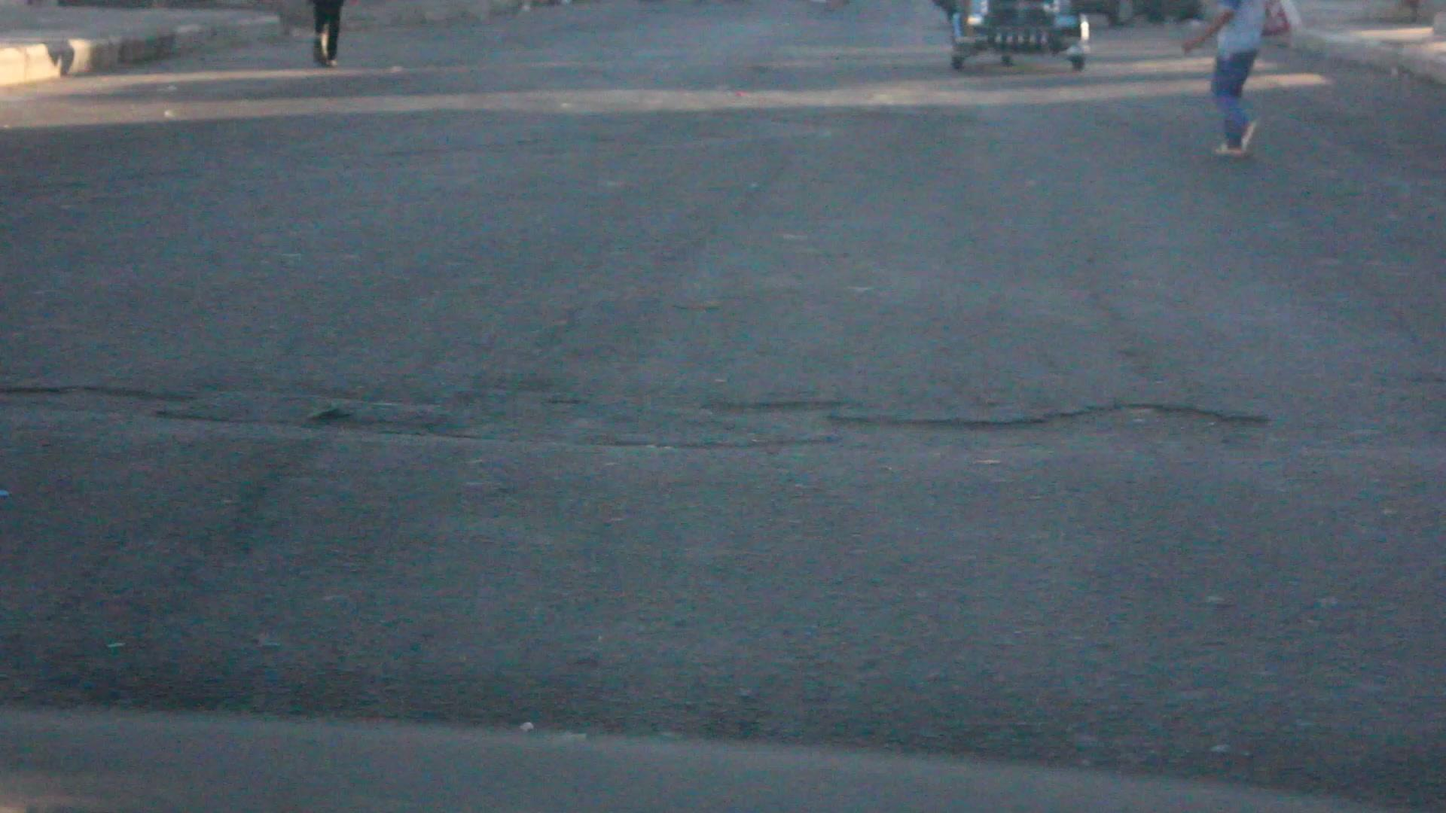Pothole: (699, 369, 1284, 476), (2, 363, 309, 450)
